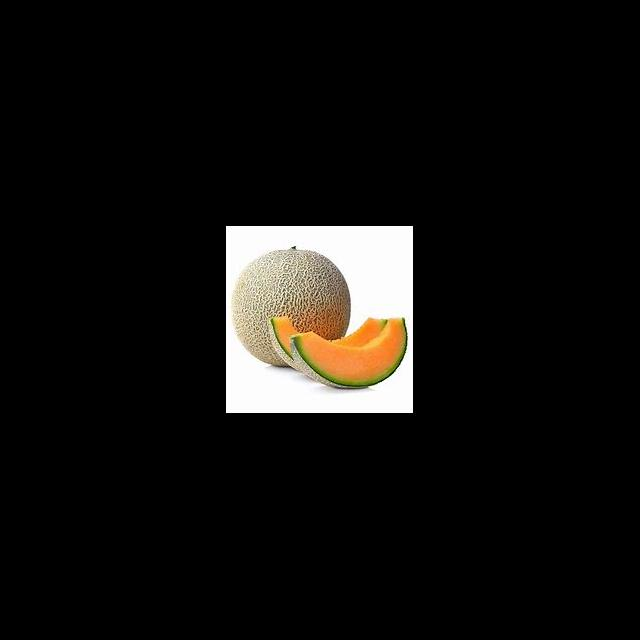Hami Melon: (232, 247, 351, 367), (291, 317, 409, 389)
